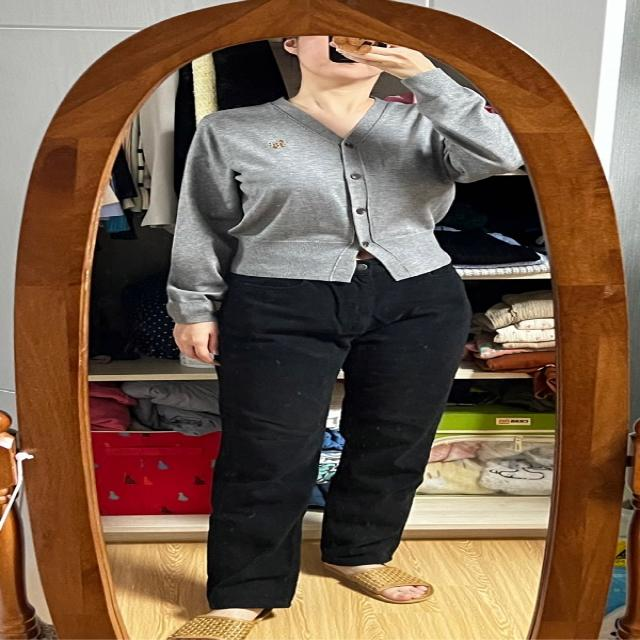cardigan: (166, 69, 526, 325)
denimpants: (208, 254, 471, 609)
